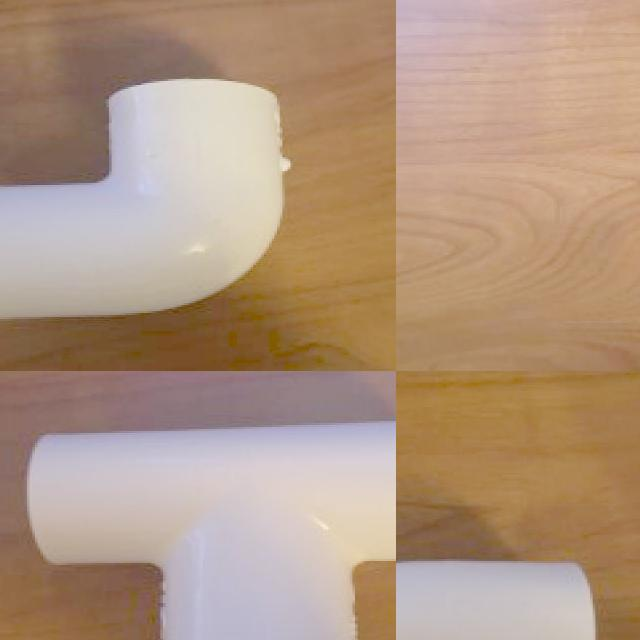L Joint: (0, 79, 291, 321), (396, 560, 598, 640)
T Joint: (24, 421, 396, 640)
